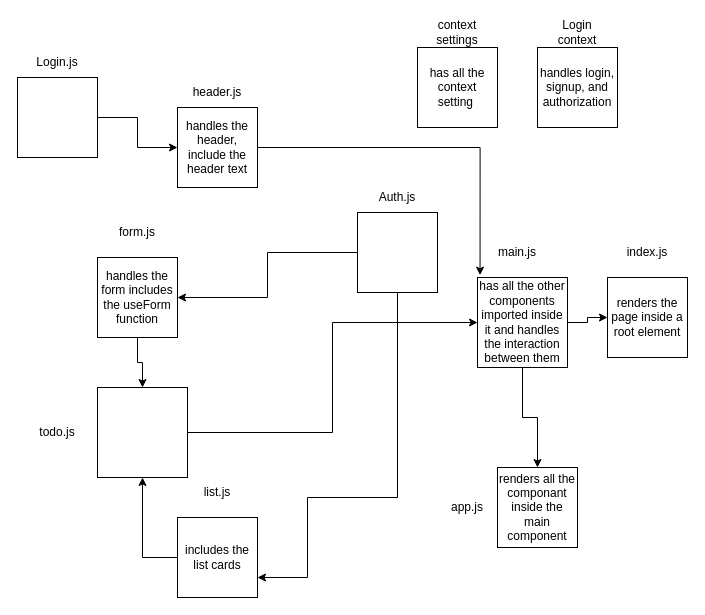
Image size: 705x615. Some labels were removed from this diagram. Each missing label, with the centre of its shape:
"checks if the logged-in user is authorized for contents" goes at (397,252).
"handles basically everything for now include the form and the list cards" goes at (142,432).
"signin & signup forms" goes at (57,117).
